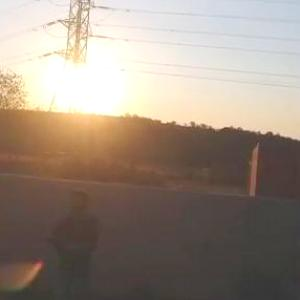follow: (40, 180, 101, 299)
